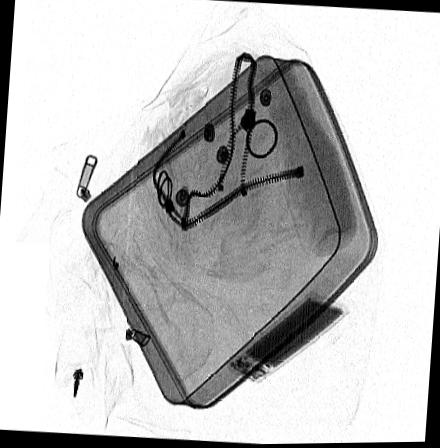Powerbank: (225, 292, 351, 387)
